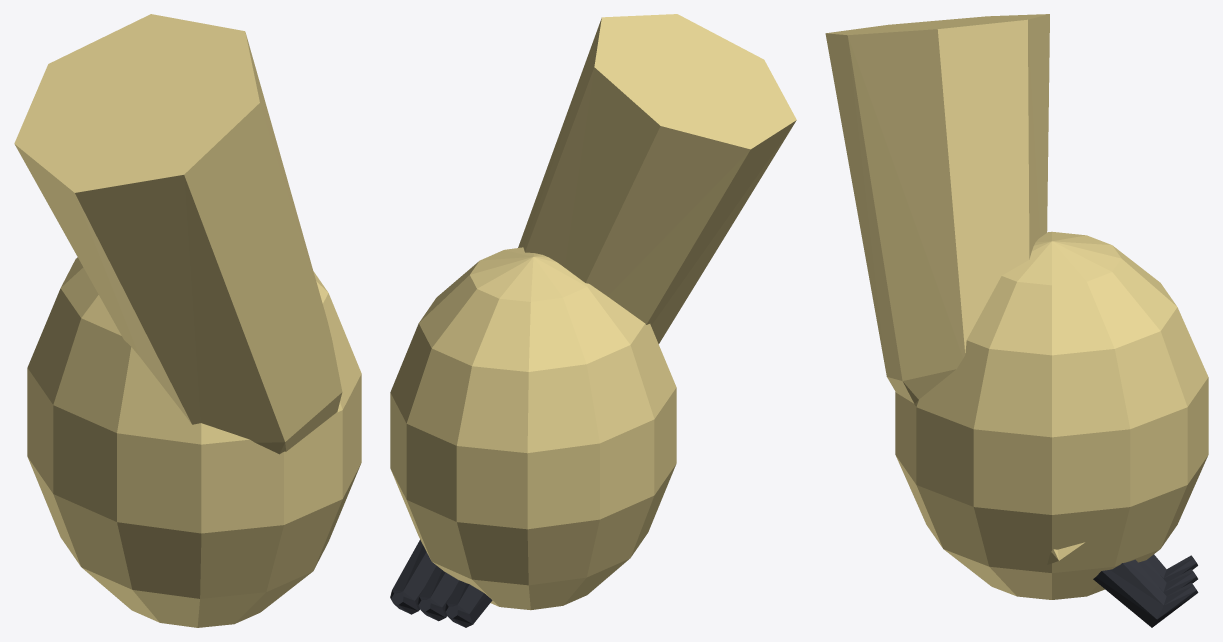
The model's file is gorehulk_c_arm_1.obj.
3 renders of one model, left to right at view 1: azimuth 30°, elevation 25°; view 2: azimuth 150°, elevation 25°; view 3: azimuth 270°, elevation 25°, orthographic. The views are drawn at different scales.
Visible parts, largest first — view 1: gorehulk_c_arm_1; view 2: gorehulk_c_arm_1; view 3: gorehulk_c_arm_1.
Part boxes in pixels (x1,y1,x2,y2): gorehulk_c_arm_1: [14, 14, 361, 627]; gorehulk_c_arm_1: [390, 14, 796, 627]; gorehulk_c_arm_1: [825, 14, 1208, 627].
Size of the model in its own units: 0.5068 by 0.8583 by 0.5367.
